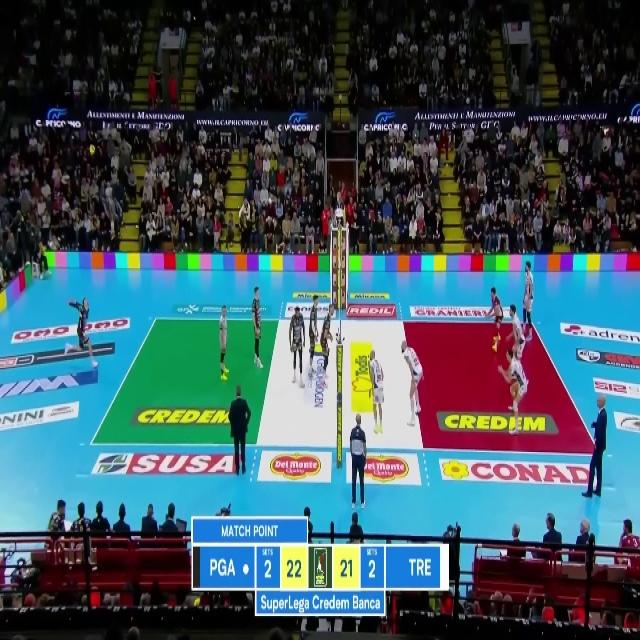volleyball court: (89, 316, 610, 457)
